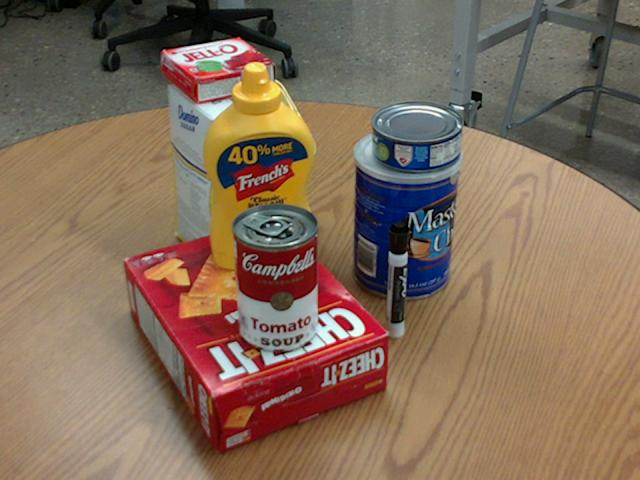cracker_box: (125, 217, 389, 452)
gelatin_box: (162, 38, 274, 102)
large_marker: (383, 221, 408, 338)
master_chef_can: (350, 126, 462, 300)
mug: (221, 140, 308, 241)
mustard_bottle: (202, 61, 313, 269)
potted_meat_can: (206, 78, 317, 198)
sugar_box: (169, 79, 247, 275)
tomato_soup_can: (231, 202, 318, 351)
tuna_fish_can: (371, 101, 463, 171)
